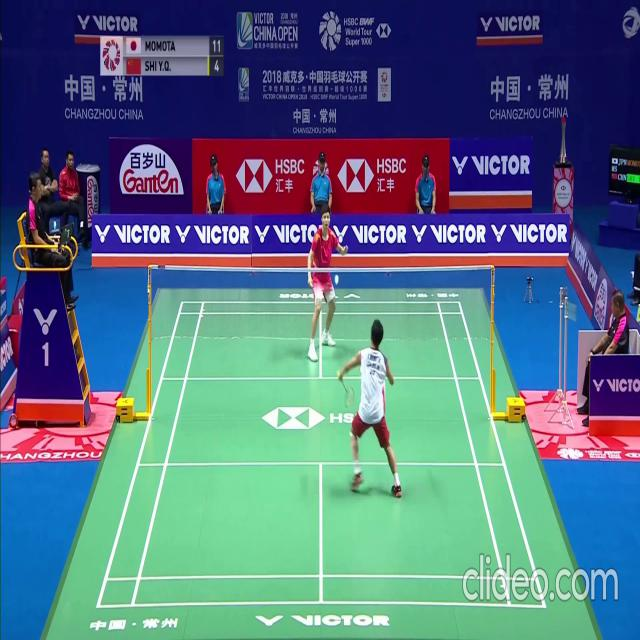Shuttlecock: (334, 278, 338, 285)
